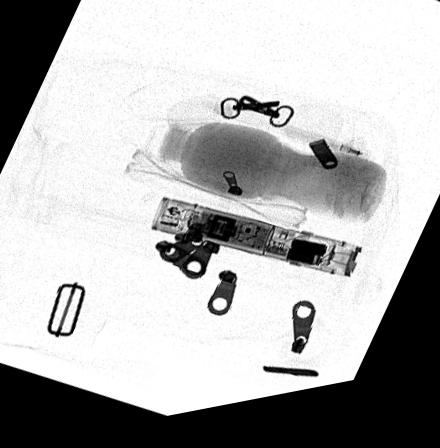Baton: (149, 201, 362, 292)
